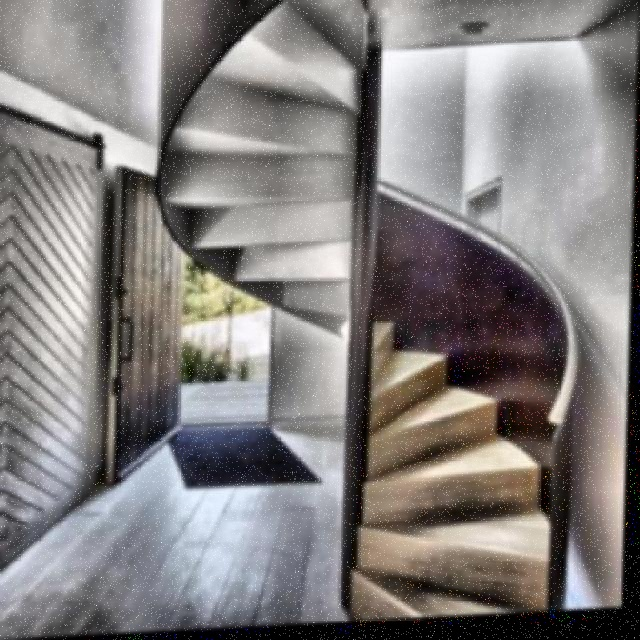stair: (346, 314, 580, 625)
